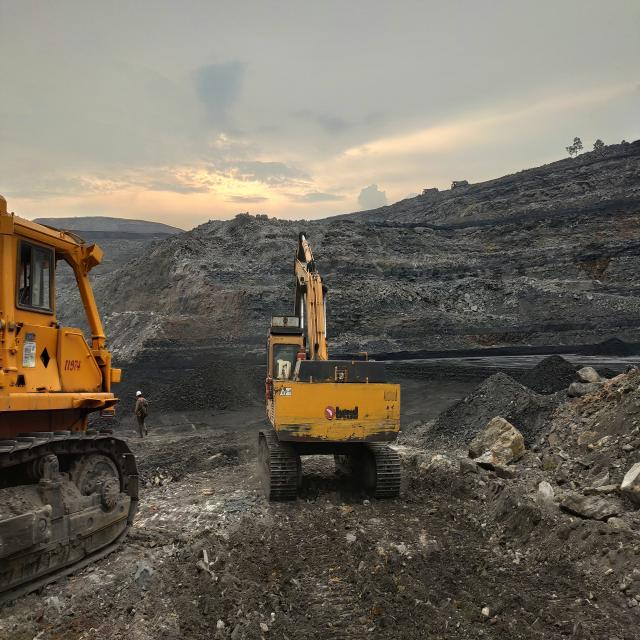buldozerpayloadergrader: (0, 195, 139, 584)
excavator: (264, 235, 401, 498)
